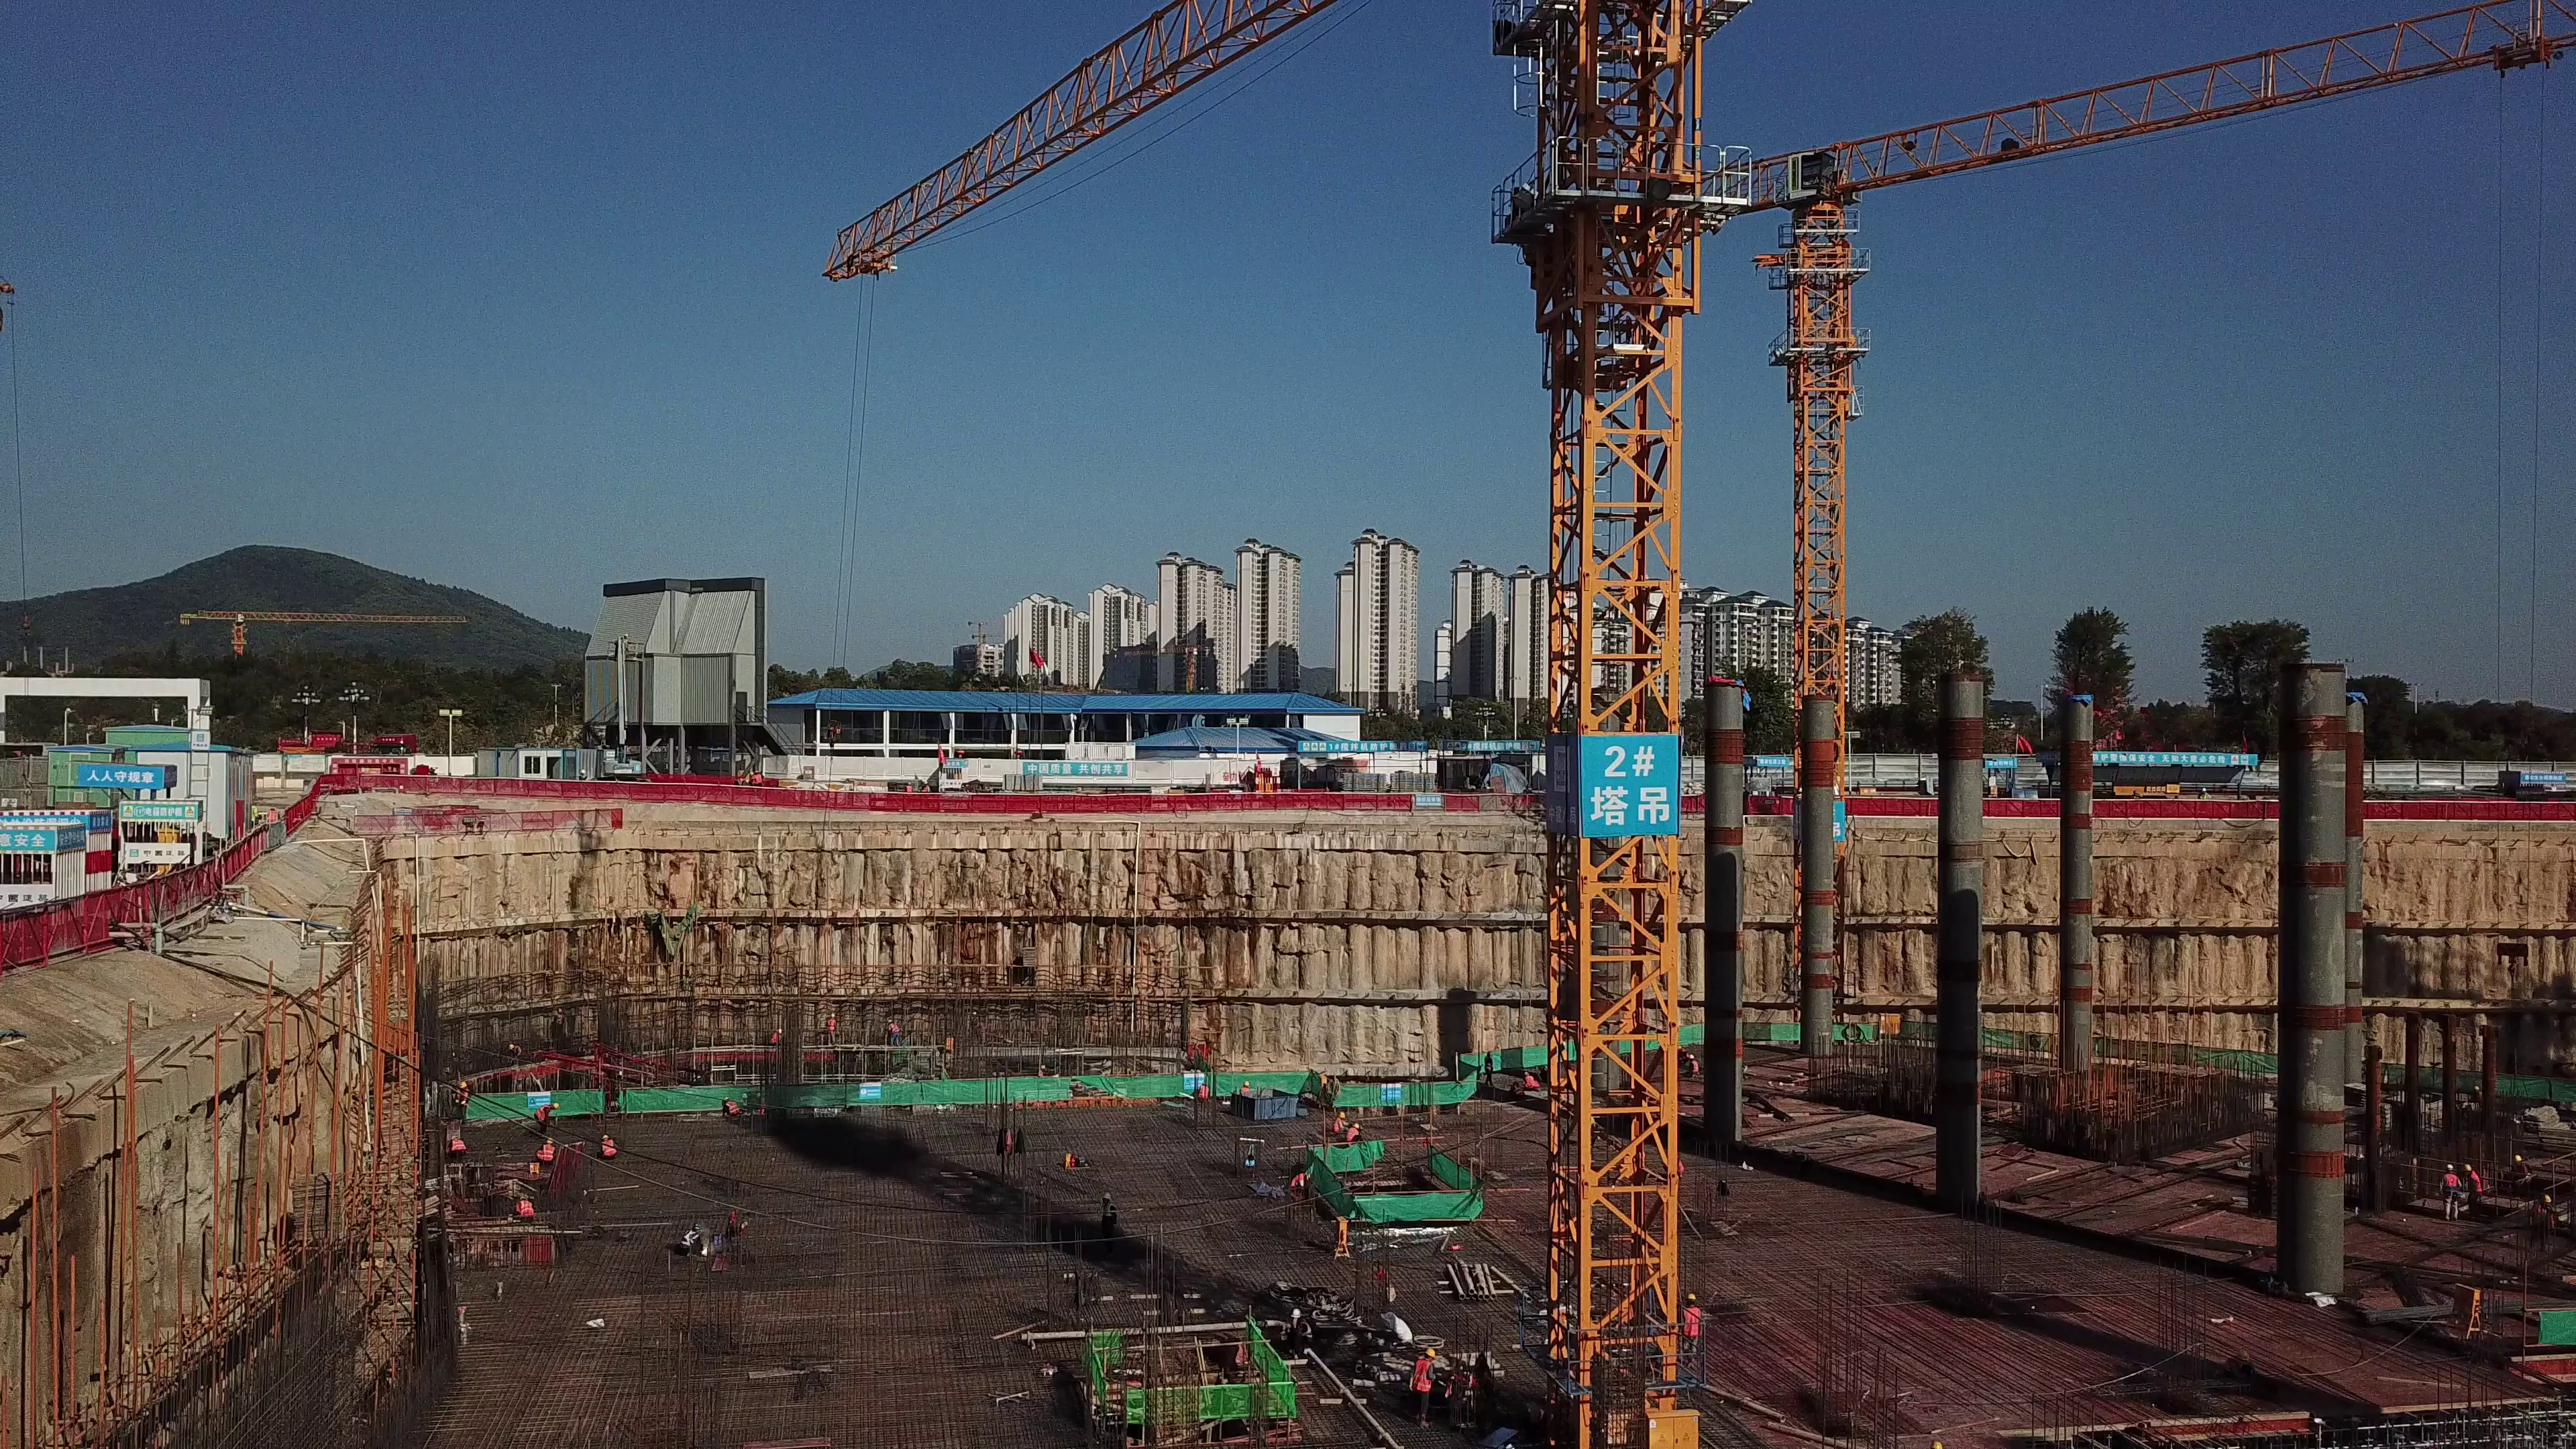ebox: (1649, 1408, 1702, 1449), (1332, 1214, 1354, 1260)
fence: (1, 889, 154, 973), (354, 812, 625, 835), (1186, 794, 1415, 817), (500, 780, 716, 803), (865, 790, 1077, 814), (2364, 799, 2576, 822), (2088, 799, 2282, 818), (322, 774, 496, 796), (721, 785, 862, 810), (225, 826, 270, 884), (1075, 792, 1186, 814), (286, 778, 326, 831), (1848, 794, 1941, 816), (1446, 795, 1535, 813), (1986, 796, 2060, 818)
helmet: (1524, 1076, 1540, 1087), (1930, 1440, 1947, 1449), (1424, 1346, 1437, 1359), (600, 1133, 613, 1140), (1101, 1192, 1112, 1201), (552, 1100, 561, 1110), (692, 1222, 702, 1231), (1352, 1122, 1362, 1130), (508, 1042, 516, 1051), (828, 1011, 837, 1018), (1486, 1049, 1495, 1057), (459, 1081, 470, 1089), (1687, 1293, 1698, 1300), (2512, 1154, 2524, 1161), (2542, 1194, 2553, 1202), (546, 1136, 555, 1144), (722, 1095, 731, 1103), (1243, 1079, 1252, 1087), (1338, 1111, 1347, 1118), (2465, 1163, 2472, 1172), (2445, 1164, 2455, 1170), (1523, 1069, 1530, 1076), (1689, 1053, 1697, 1061), (777, 1027, 784, 1034), (888, 1017, 895, 1023), (451, 1135, 460, 1140)
person: (1403, 1342, 1444, 1432), (1682, 1290, 1711, 1364), (2530, 1193, 2562, 1251), (2438, 1161, 2466, 1225), (2508, 1153, 2541, 1202), (2465, 1157, 2491, 1212), (1097, 1189, 1121, 1246), (529, 1099, 562, 1132), (676, 1221, 710, 1255), (510, 1190, 542, 1226), (451, 1083, 475, 1125), (715, 1093, 746, 1123), (1289, 1167, 1318, 1197), (593, 1130, 621, 1160), (1480, 1050, 1499, 1091), (445, 1135, 474, 1163), (531, 1136, 559, 1163), (883, 1016, 906, 1047), (823, 1008, 841, 1044), (1345, 1122, 1368, 1148), (1689, 1050, 1707, 1079), (505, 1038, 527, 1061), (1521, 1068, 1544, 1092), (1332, 1107, 1350, 1134), (767, 1027, 791, 1047), (1238, 1077, 1258, 1095), (2196, 785, 2212, 802)
slogan: (84, 763, 167, 792), (1022, 761, 1130, 777), (1, 826, 57, 852)
vest: (1409, 1359, 1432, 1391), (1683, 1308, 1700, 1335), (680, 1230, 702, 1247), (2469, 1173, 2483, 1195), (536, 1142, 554, 1159), (533, 1106, 551, 1121), (2444, 1173, 2459, 1191), (600, 1140, 619, 1156), (515, 1201, 535, 1216), (1293, 1170, 1306, 1187), (455, 1089, 469, 1105), (1347, 1129, 1360, 1143), (449, 1140, 466, 1150), (726, 1104, 741, 1114), (1335, 1120, 1348, 1132), (1693, 1060, 1700, 1072)
